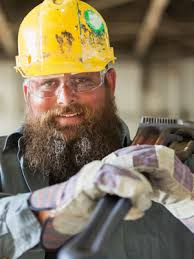Person_wearing_helmet: (9, 0, 116, 99)
